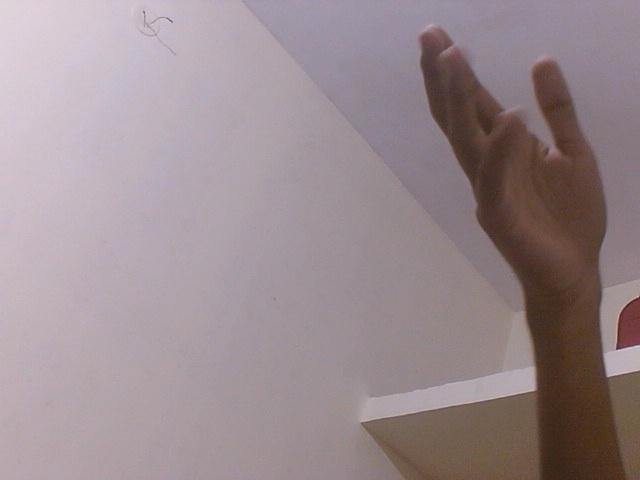hand: (415, 18, 617, 307)
